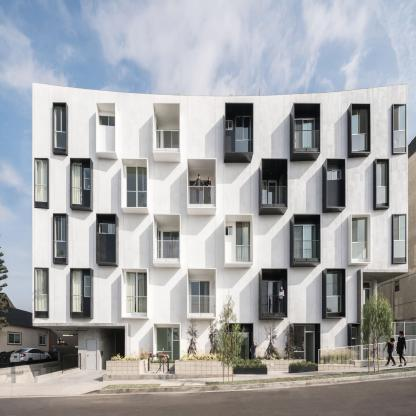Balcony: (188, 296, 215, 317), (188, 186, 215, 207), (295, 241, 319, 263), (295, 130, 319, 152), (154, 130, 179, 151), (155, 241, 180, 262), (262, 296, 286, 317), (263, 186, 286, 207)
Building Outline: (32, 82, 408, 371)
Dont: (181, 290, 245, 383), (358, 283, 395, 373), (318, 342, 383, 371), (256, 318, 297, 360), (148, 348, 172, 374), (192, 174, 212, 204), (250, 340, 259, 359), (279, 286, 285, 313)
Door: (225, 332, 249, 371), (294, 224, 315, 258), (189, 281, 210, 313), (295, 118, 315, 149), (262, 280, 280, 313), (189, 180, 211, 204), (163, 231, 179, 259), (306, 332, 315, 371), (262, 181, 277, 204), (87, 340, 96, 371), (163, 131, 179, 148), (306, 326, 315, 331)
Door Hole: (188, 269, 216, 317), (188, 159, 216, 207), (154, 103, 180, 152), (294, 214, 320, 263), (226, 324, 253, 371), (154, 215, 180, 262), (294, 324, 320, 371), (294, 104, 320, 151), (262, 269, 287, 317), (262, 159, 287, 207), (99, 326, 125, 371)
Facade: (32, 96, 408, 371)
Floor: (32, 158, 408, 210), (32, 213, 408, 264), (32, 268, 363, 321)
Floor Slab: (32, 320, 363, 324), (32, 155, 408, 158), (32, 264, 408, 267), (32, 210, 408, 213)
Ground Floor: (78, 324, 363, 371)
Top Floor: (32, 96, 408, 155)
Window: (363, 282, 372, 361), (352, 217, 368, 259), (352, 109, 367, 151), (236, 222, 251, 263), (327, 271, 341, 313), (35, 269, 48, 311), (236, 116, 251, 152), (157, 328, 172, 363), (394, 215, 406, 258), (394, 105, 406, 148), (55, 215, 66, 258), (55, 106, 66, 149), (377, 161, 387, 204), (73, 270, 83, 312), (137, 272, 147, 312), (126, 272, 136, 312), (73, 162, 82, 205), (138, 167, 147, 207), (127, 167, 136, 207), (294, 326, 304, 359), (173, 328, 180, 363), (36, 185, 48, 202), (99, 223, 115, 234), (99, 115, 115, 126), (42, 160, 48, 184), (328, 170, 342, 180), (84, 168, 90, 190), (84, 276, 90, 297), (352, 327, 357, 352), (36, 160, 41, 184), (226, 120, 233, 130), (226, 226, 233, 235)
Window Hole: (226, 103, 253, 152), (226, 215, 253, 262), (363, 272, 377, 361), (122, 159, 147, 207), (122, 269, 147, 317), (154, 324, 180, 362), (71, 158, 91, 207), (71, 269, 90, 317), (96, 103, 115, 151), (97, 214, 115, 262), (327, 269, 345, 317), (352, 214, 370, 262), (327, 159, 345, 207), (352, 104, 370, 152), (35, 159, 48, 207), (53, 103, 66, 151), (35, 269, 48, 316), (54, 214, 66, 262), (394, 215, 406, 263), (377, 159, 389, 207), (394, 104, 406, 152), (352, 324, 360, 352)
Window Outline: (225, 103, 253, 154), (225, 214, 253, 263), (121, 158, 148, 208), (121, 268, 148, 318), (294, 103, 321, 153), (261, 158, 288, 208), (153, 323, 181, 363), (70, 158, 91, 209), (70, 268, 91, 319), (96, 102, 116, 153), (96, 214, 116, 264), (326, 268, 346, 318), (351, 213, 371, 263), (326, 158, 346, 208), (351, 103, 371, 153), (53, 102, 67, 153), (34, 158, 48, 208), (53, 214, 67, 264), (35, 268, 49, 318), (393, 214, 407, 264), (393, 104, 407, 154), (376, 158, 389, 208), (351, 323, 361, 353)
